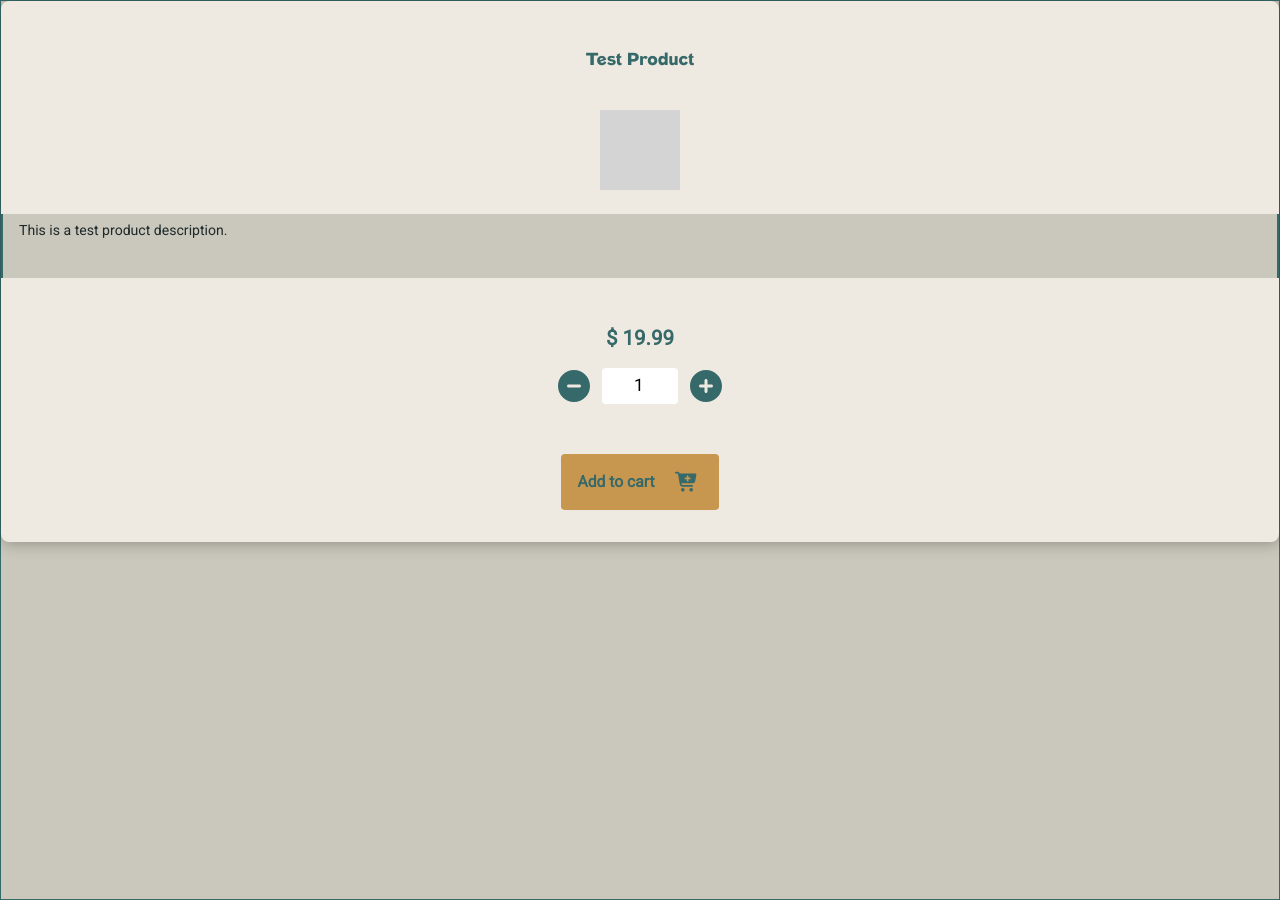
Test case: ProductCard › decreases quantity when decrease button is clicked
The image size is (1280, 900).
Step 1. Click the button named "increase quantity" → [706, 386], box x1=686 y1=366 x2=726 y2=406
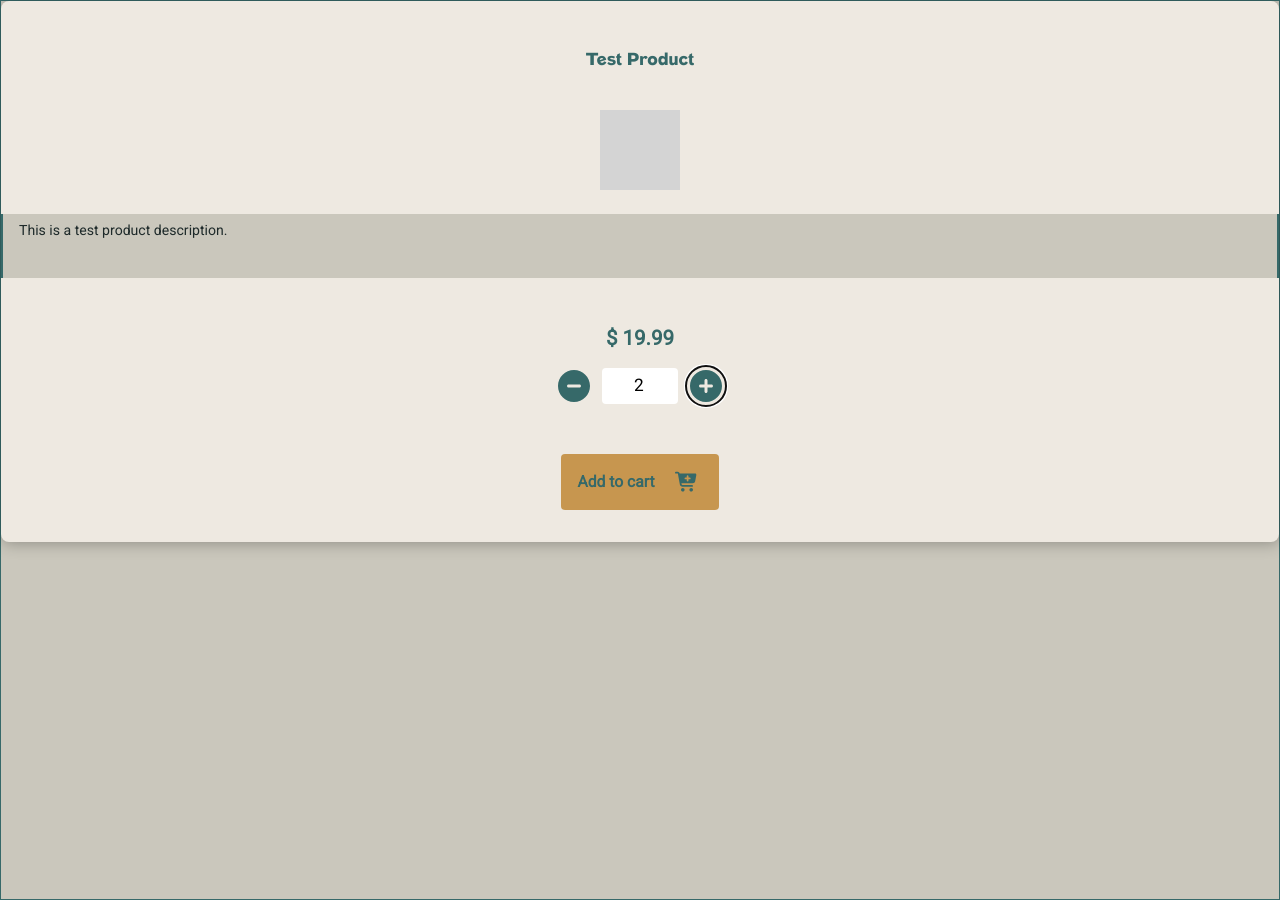
Step 2. Click the button named "decrease quantity" → [574, 386], box x1=554 y1=366 x2=594 y2=406
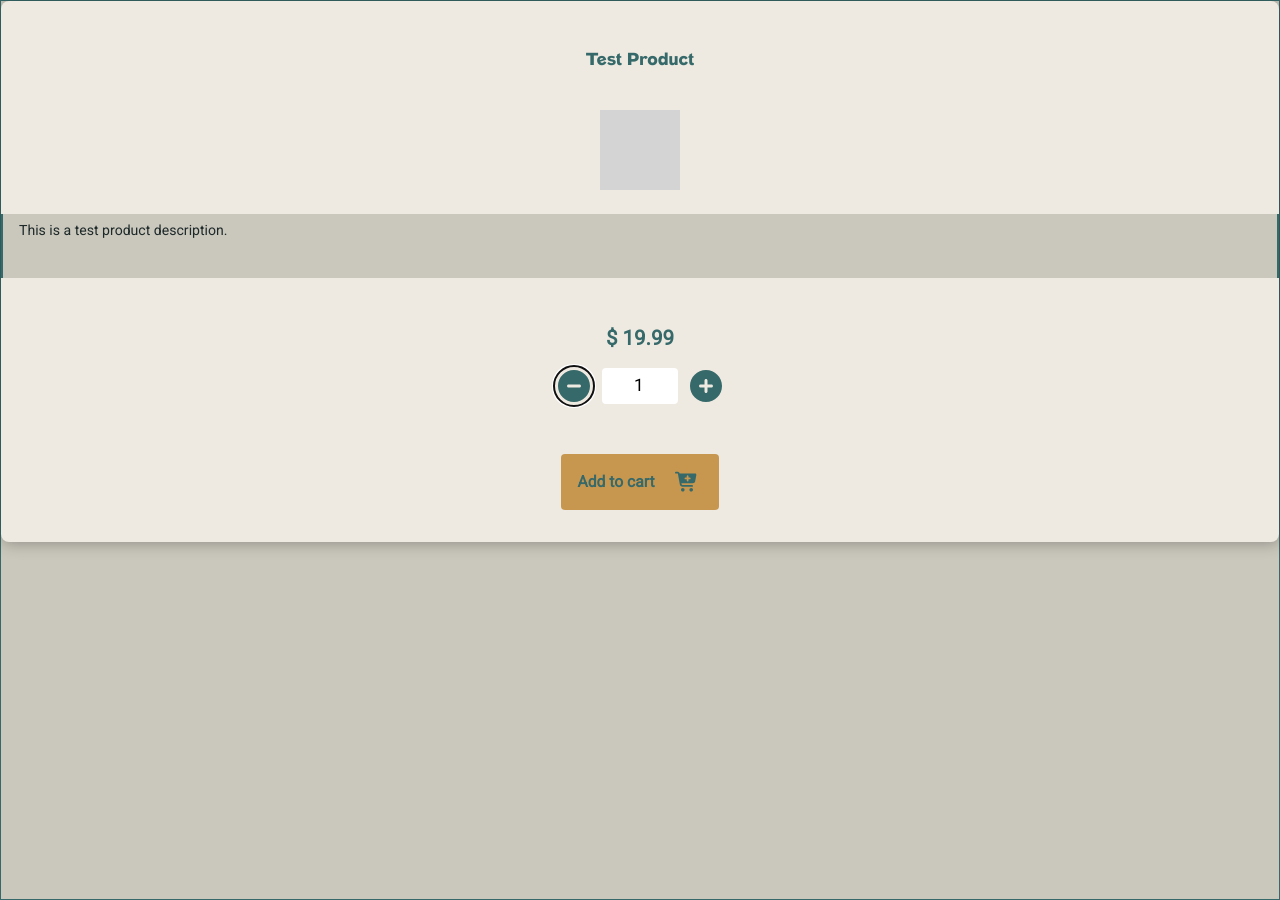
Check: the number field named "quantity" holds "1", box x1=602 y1=368 x2=678 y2=404
